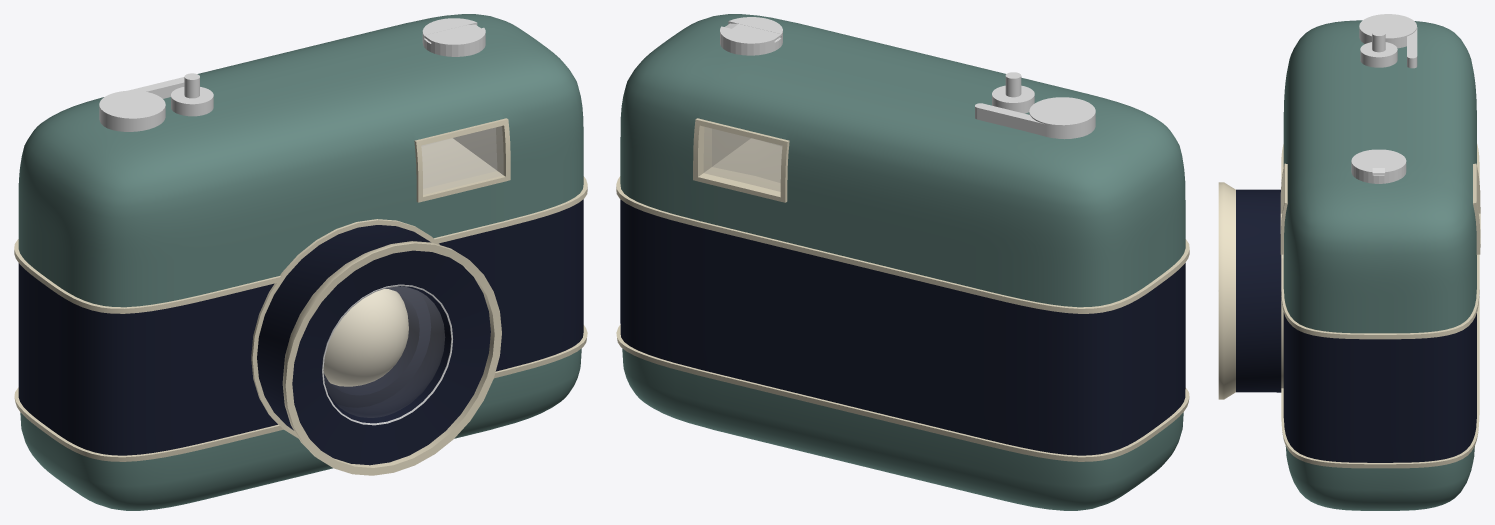
File: asset.glb
3 views of the same model, side by side, from view 1: azimuth 30°, elevation 25°; view 2: azimuth 150°, elevation 25°; view 3: azimuth 270°, elevation 25° (orthographic). The views are drawn at different scales.
Parts seen in each view (by area): view 1: カメラ本体, レンズ_本体, レンズ_ガラス, レンズ_内部球体, ファインダー_ガラス_前, フィルム巻くやつ_土台, レンズ_根本飾り, フィルム軸_土台, シャッター_土台; view 2: カメラ本体, ファインダー_ガラス_後, フィルム巻くやつ_土台, フィルム軸_土台, フィルム巻くやつ_バー, シャッター_土台; view 3: カメラ本体, レンズ_本体, フィルム軸_土台, フィルム巻くやつ_土台, シャッター_土台, フィルム軸_上部.
Part boxes in pixels (box(x1,y1,x2,y2)): カメラ本体: box(14, 14, 587, 510); レンズ_本体: box(257, 225, 501, 475); レンズ_ガラス: box(323, 287, 444, 417); レンズ_内部球体: box(323, 289, 408, 386); ファインダー_ガラス_前: box(421, 126, 503, 194); フィルム巻くやつ_土台: box(99, 90, 165, 131); レンズ_根本飾り: box(251, 219, 439, 438); フィルム軸_土台: box(422, 18, 485, 56); シャッター_土台: box(171, 87, 213, 116); カメラ本体: box(616, 14, 1189, 510); ファインダー_ガラス_後: box(704, 127, 782, 191); フィルム巻くやつ_土台: box(1029, 97, 1095, 139); フィルム軸_土台: box(720, 17, 782, 55); フィルム巻くやつ_バー: box(977, 104, 1046, 136); シャッター_土台: box(992, 85, 1034, 113); カメラ本体: box(1280, 20, 1480, 510); レンズ_本体: box(1218, 182, 1281, 399); フィルム軸_土台: box(1351, 149, 1406, 183); フィルム巻くやつ_土台: box(1359, 14, 1416, 48); シャッター_土台: box(1360, 42, 1397, 67); フィルム軸_上部: box(1372, 149, 1384, 174).
Bounding box in the file's own units: 3.15 × 2.31 × 1.59.
